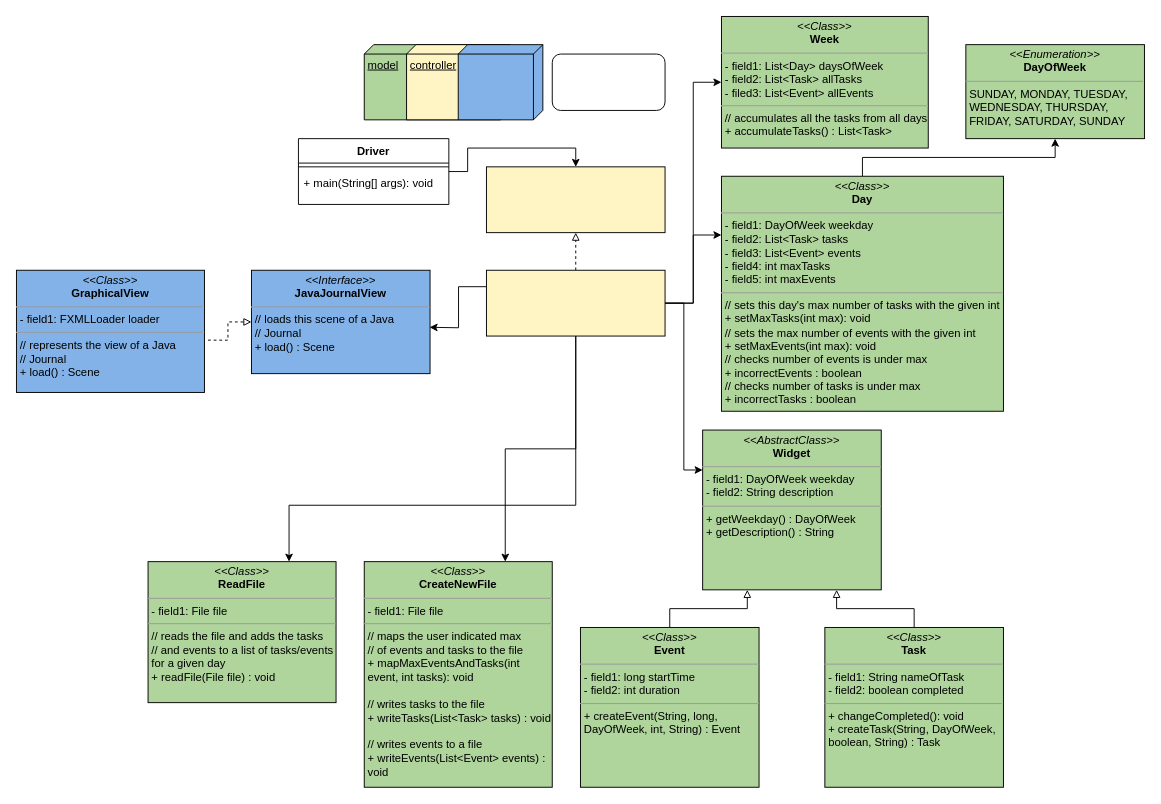
Some shapes in this 1161 by 804 pixel diagram are drawn without their labels. Each missing label, with the centre of its shape:
"<<Class>> ControllerImpl + run() : void" belongs at point (575, 302).
"<<Interface>> Controller + run() : void" belongs at point (575, 199).
"Headlining Features: - Menu Bar - Task Queue" belongs at point (608, 81).
"view" belongs at point (500, 82).
